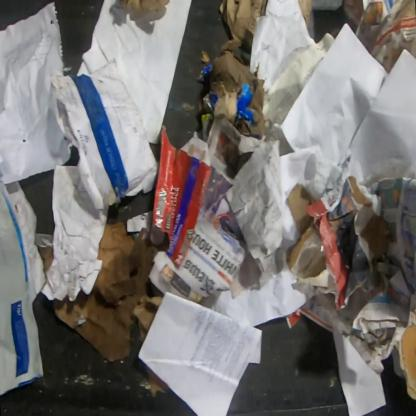cardboard: (52, 222, 164, 363), (152, 124, 214, 272), (196, 51, 265, 140), (346, 175, 393, 273), (286, 183, 326, 279), (398, 307, 415, 402), (118, 0, 172, 20), (38, 245, 53, 274)
